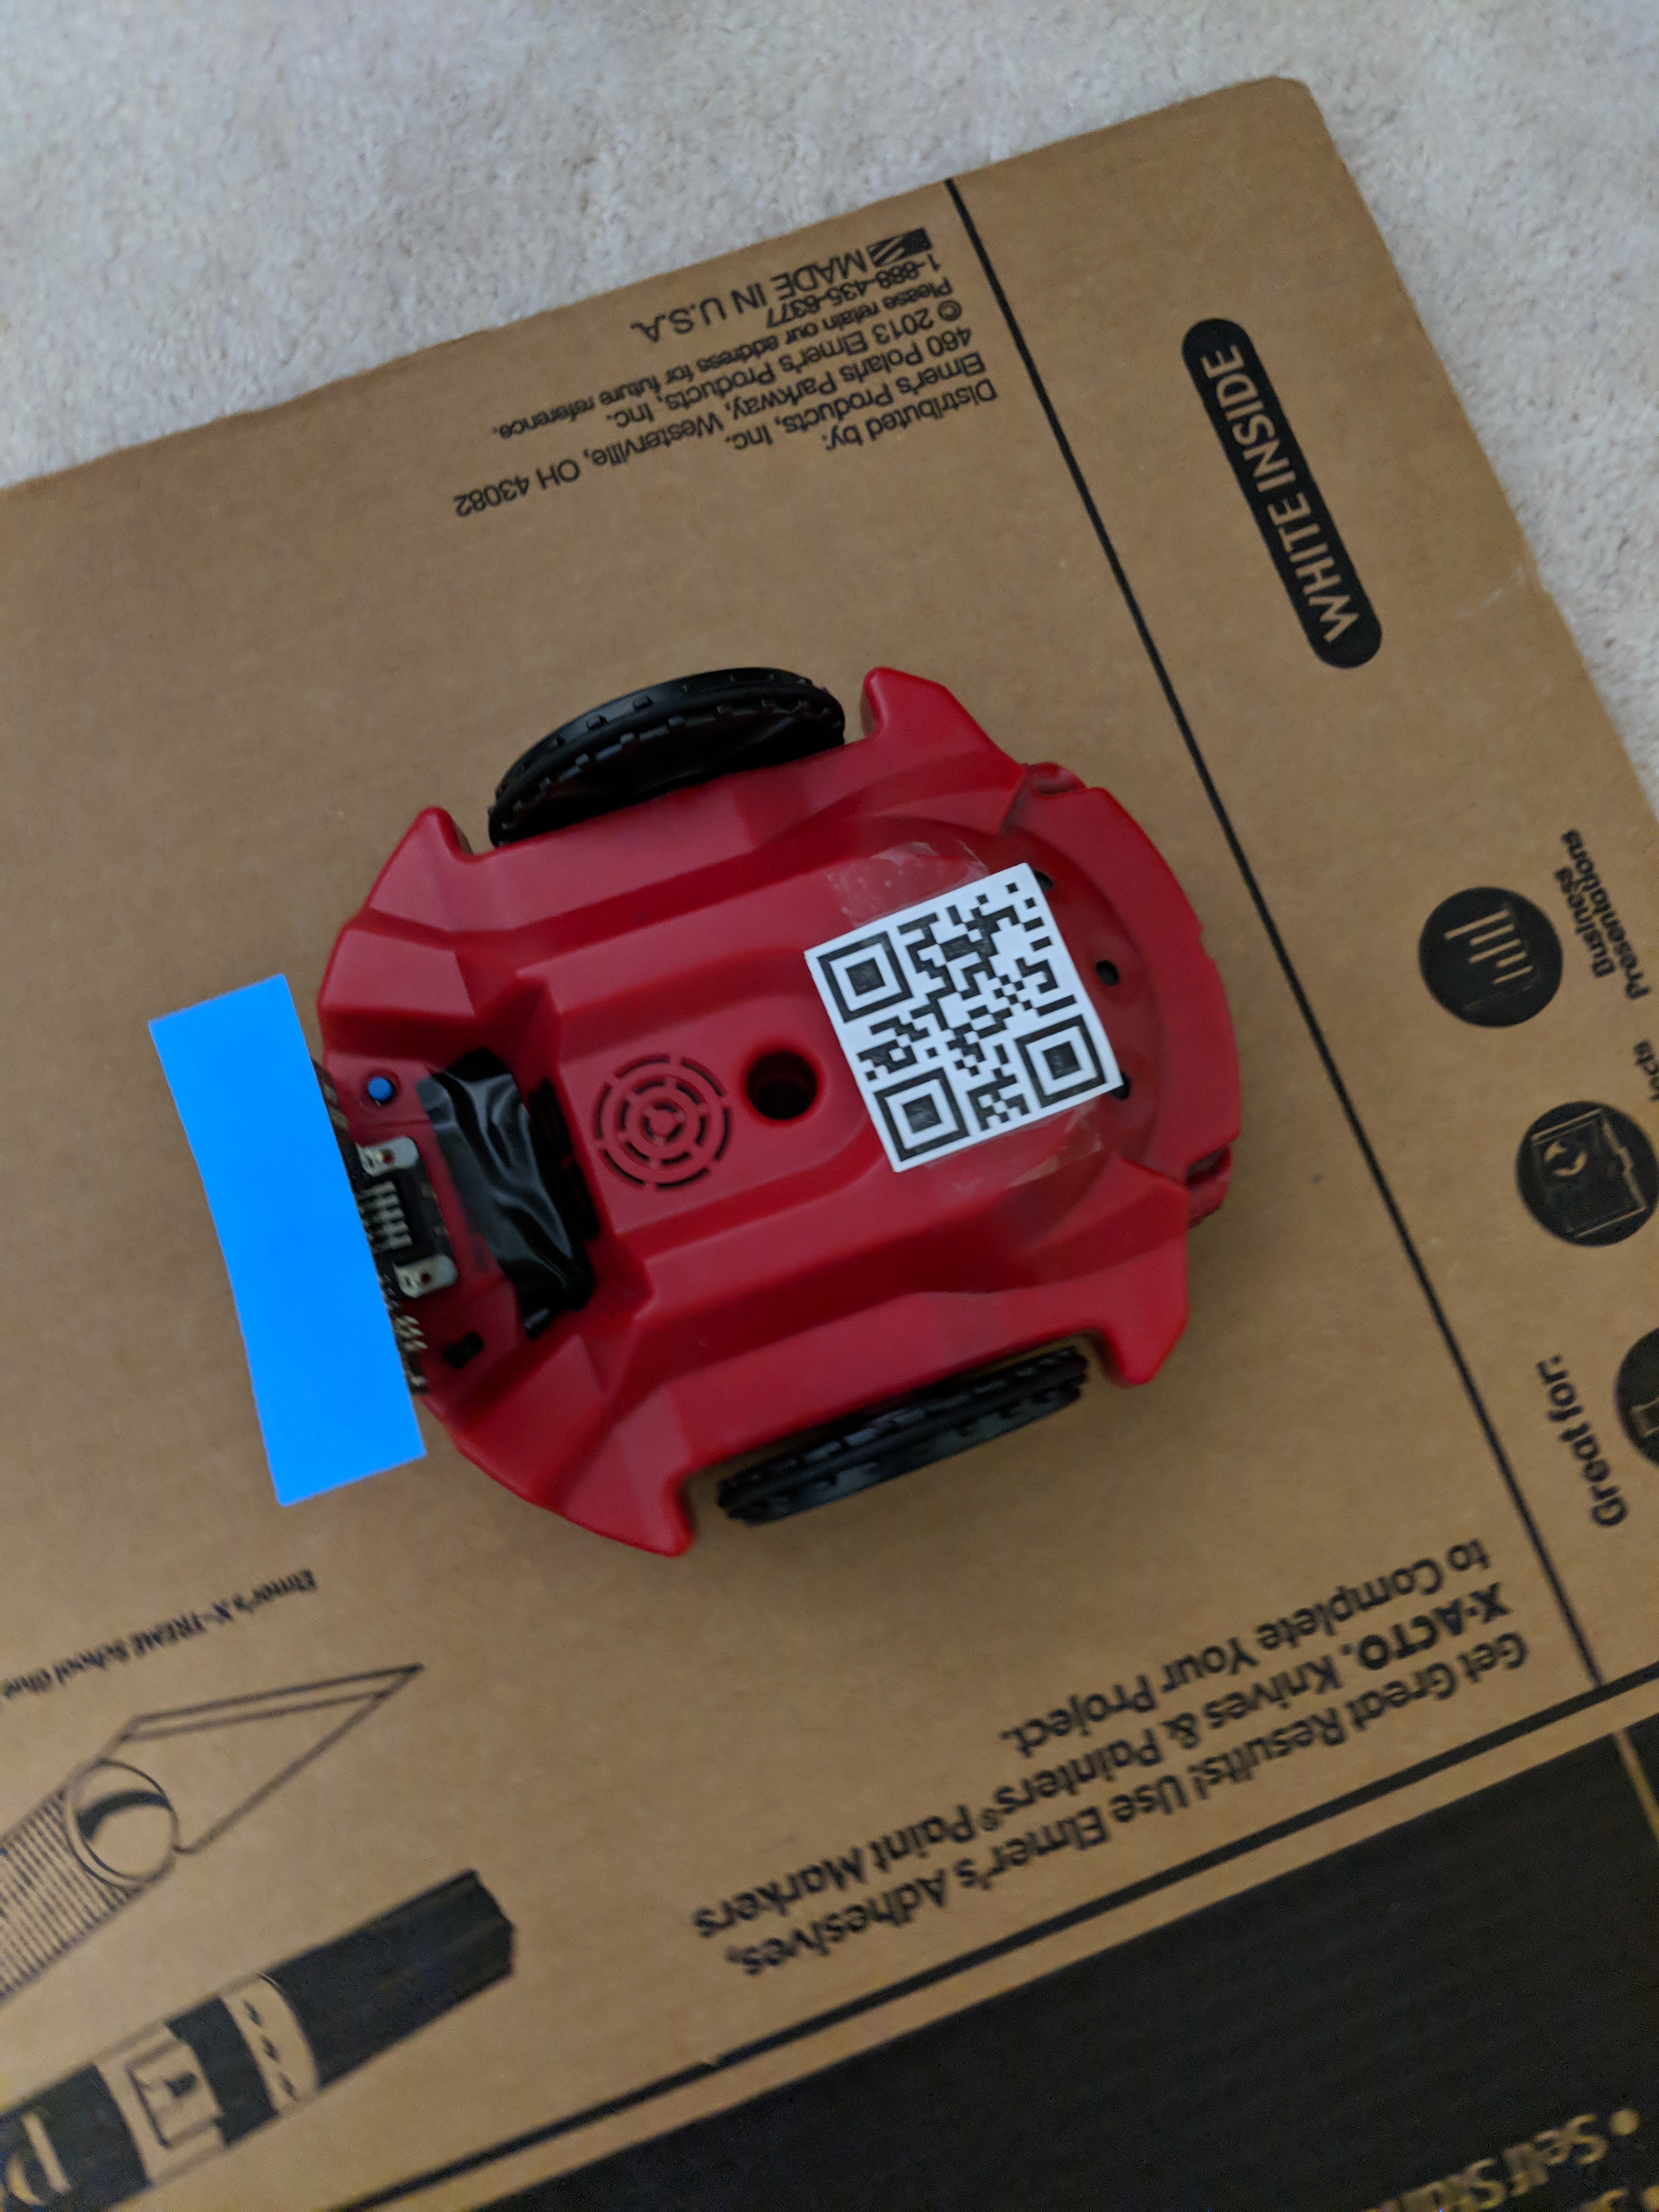chassis: (181, 632, 1290, 1571)
qr: (770, 846, 1157, 1151)
